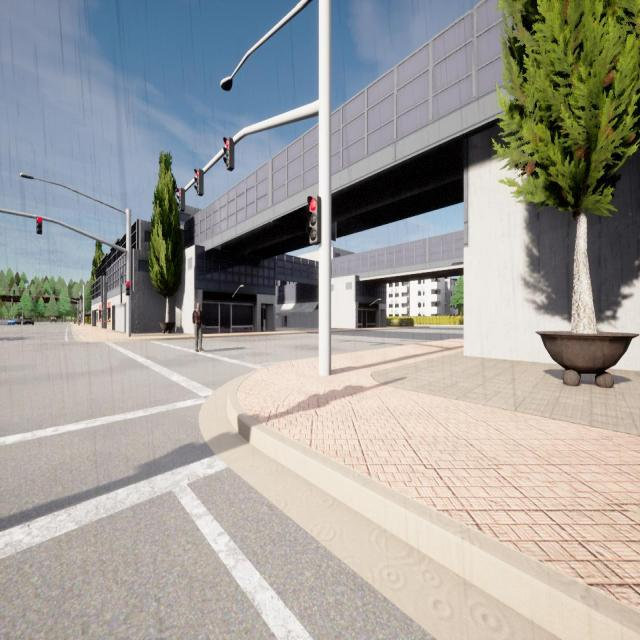Pedestrian: (192, 302, 204, 352)
Vehicle: (23, 318, 34, 325), (8, 318, 15, 326), (15, 318, 22, 325), (51, 316, 56, 324)
traffic_light: (308, 196, 322, 245), (223, 137, 234, 171), (194, 168, 204, 196), (177, 187, 185, 212), (36, 217, 42, 234), (126, 281, 130, 296), (13, 290, 15, 295), (29, 290, 31, 295), (32, 296, 34, 300), (44, 297, 46, 300), (58, 298, 59, 302), (81, 294, 82, 298), (80, 296, 81, 299), (80, 310, 80, 314)
